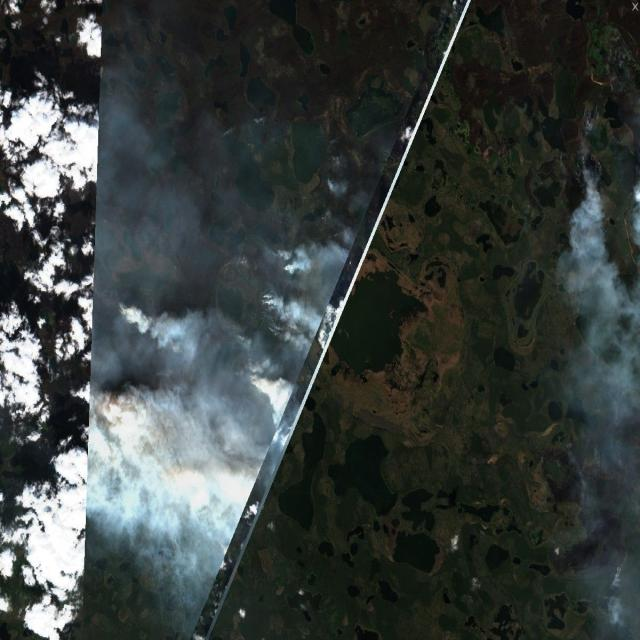fire: (80, 232, 347, 600), (555, 91, 640, 210)
